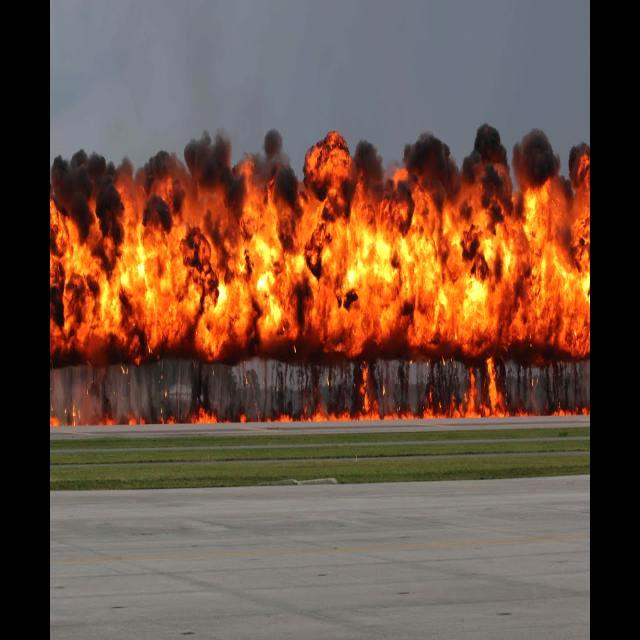fire: (60, 177, 594, 417)
